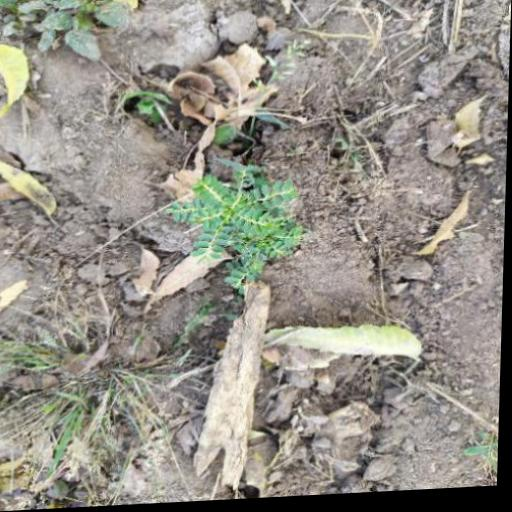weed: (19, 325, 218, 503), (171, 160, 315, 312)
